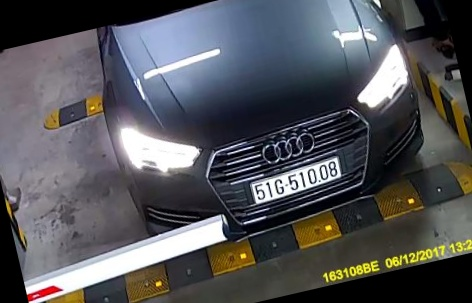plate: (248, 155, 341, 212)
